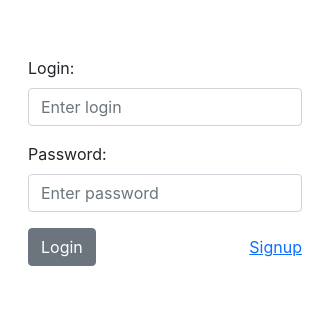
Show login errors
The image size is (331, 328).
Type "username" into the field labelled "Login:" at (165, 107), box [28, 88, 302, 126]
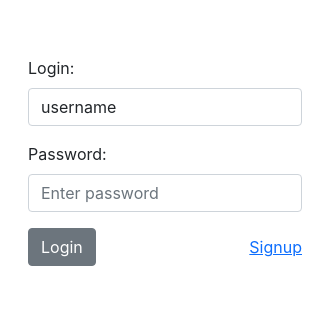
Type "password" into the password field labelled "Password:" at (165, 193), box [28, 174, 302, 212]
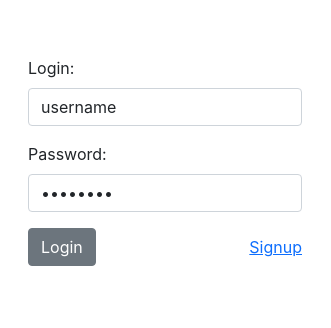
Click the button with test id "login-submit-button" at (62, 247), box [28, 228, 96, 266]
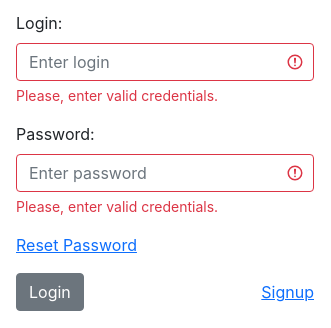
Result: the text with test id "login-error-message" is shown at [16, 198, 218, 215]
